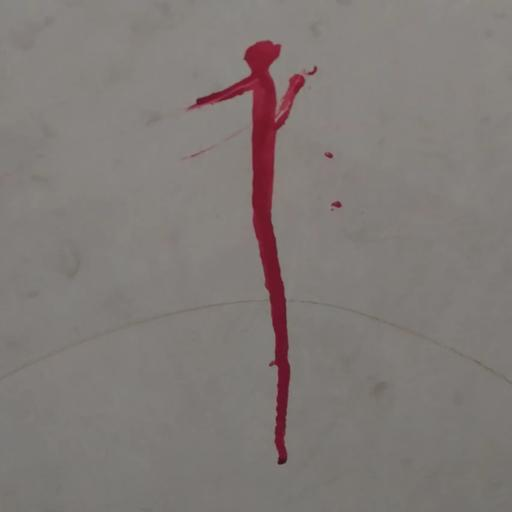stain: (170, 14, 366, 479), (0, 265, 512, 410)
